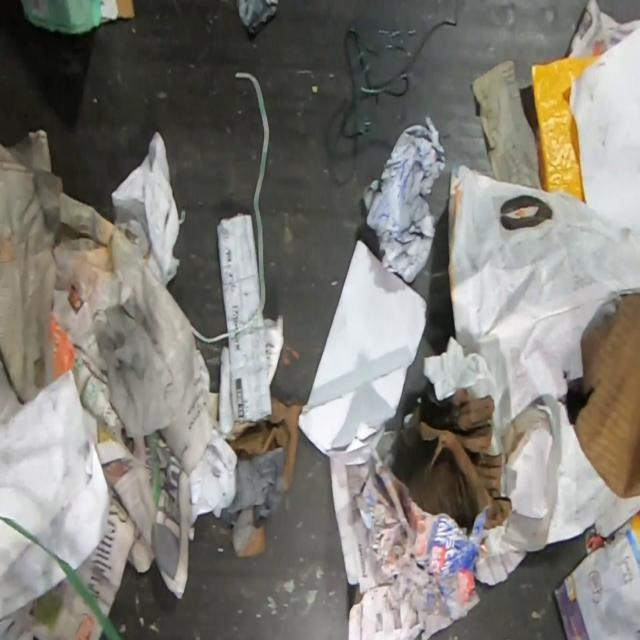cardboard: (390, 381, 512, 532), (574, 294, 640, 499), (22, 1, 133, 34)
